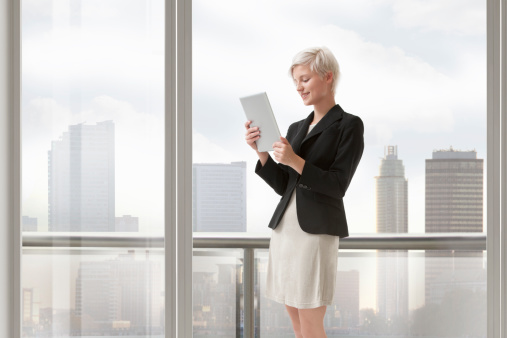em pe: (247, 50, 353, 338)
